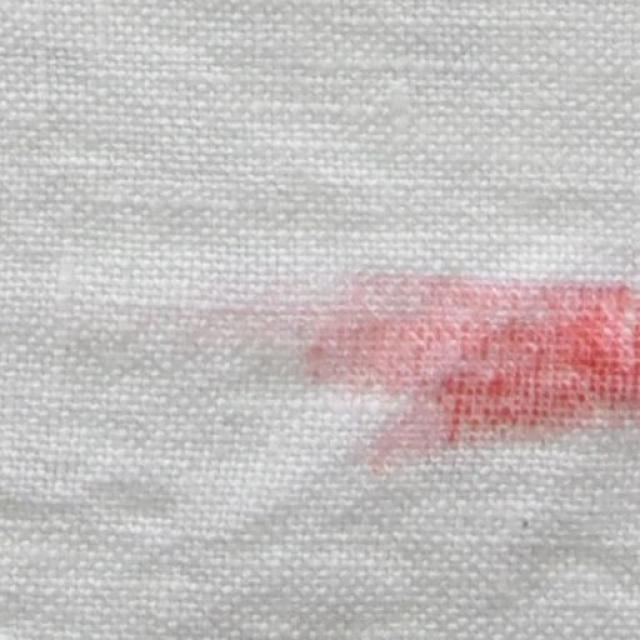Stain: (306, 275, 640, 466)
